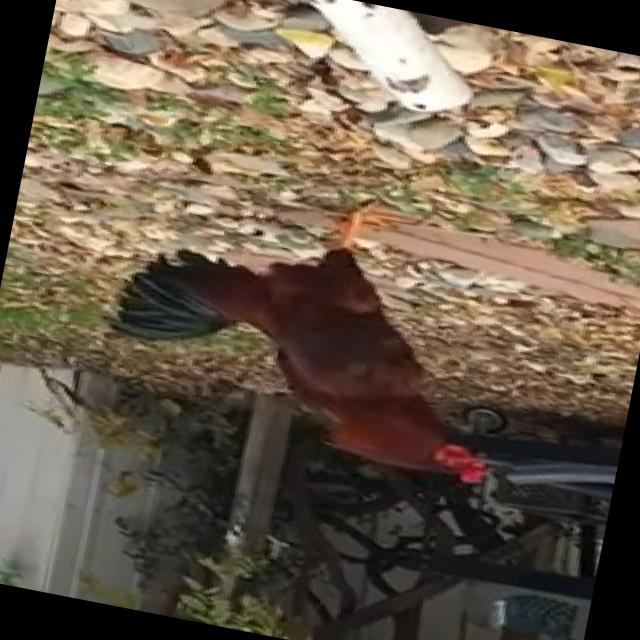wing flap: (86, 156, 558, 508)
